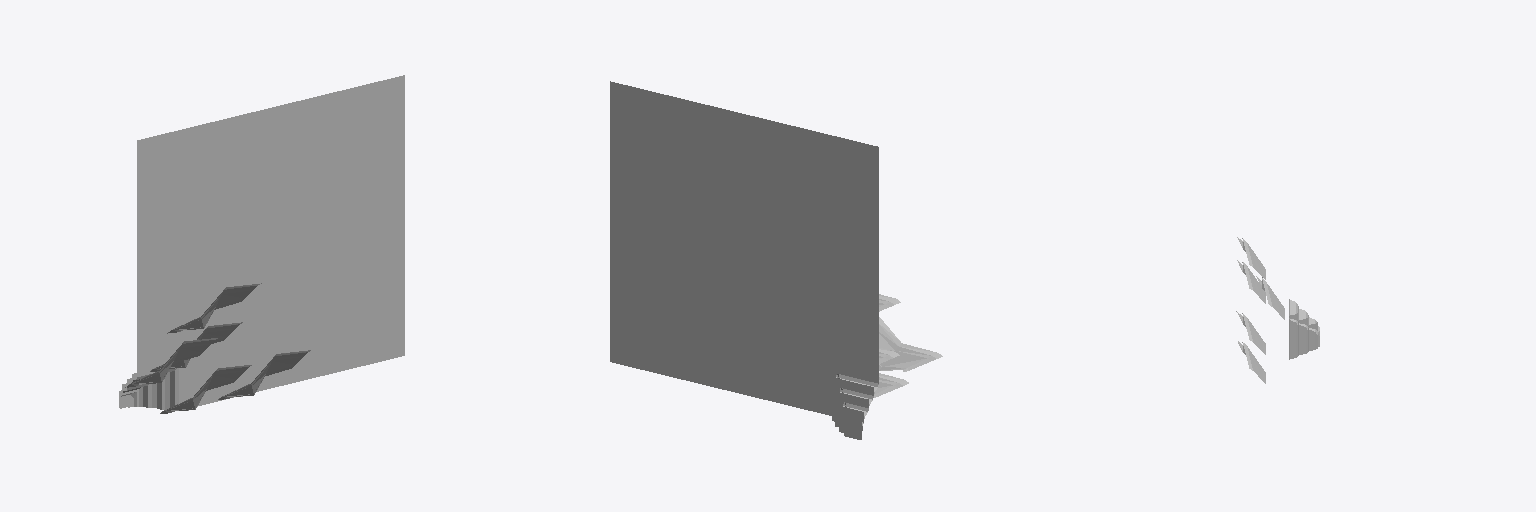
Rendered from Victory-Road-3_02_00.obj.
3 renders of one model, left to right at view 1: azimuth 30°, elevation 25°; view 2: azimuth 150°, elevation 25°; view 3: azimuth 270°, elevation 25°, orthographic.
Parts seen in each view (by area): view 1: map; view 2: map; view 3: map.
Boxes of the visible parts, x1,y1,x2,y2 form: map: [119, 75, 404, 413]; map: [610, 81, 942, 439]; map: [1236, 237, 1319, 383].
Bounding box in the file's own units: 36.59 × 32 × 9.03.